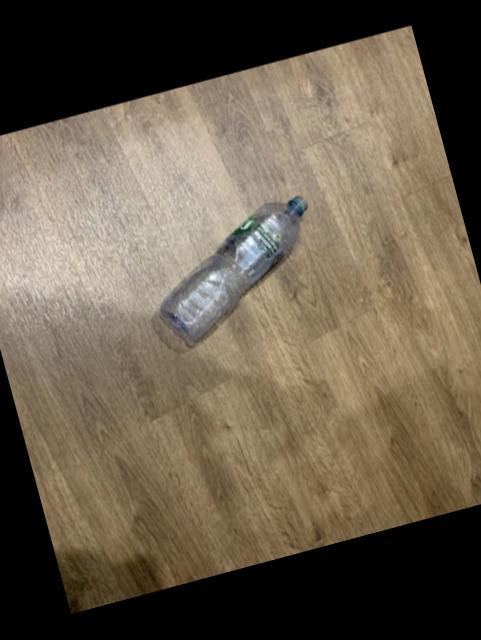plastic: (155, 198, 308, 353)
